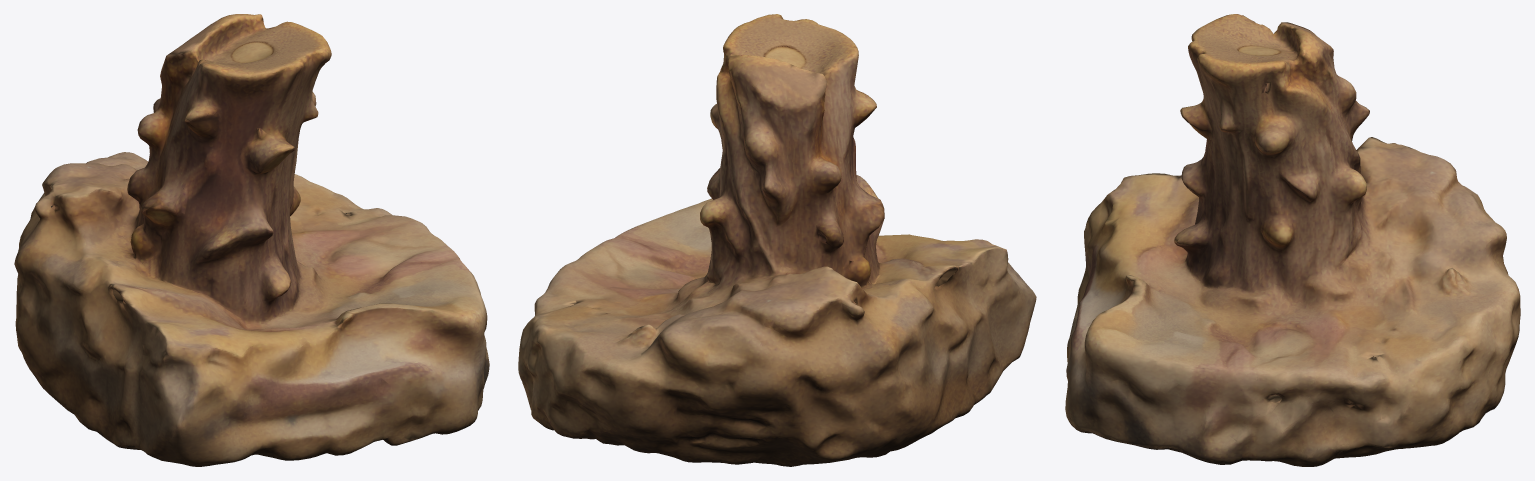
3 renders of one model, left to right at view 1: azimuth 30°, elevation 25°; view 2: azimuth 150°, elevation 25°; view 3: azimuth 270°, elevation 25°, orthographic. The views are drawn at different scales.
Visible parts, largest first — view 1: world; view 2: world; view 3: world.
Boxes of the visible parts, bbox=[...] form: world: bbox=[14, 14, 489, 466]; world: bbox=[518, 14, 1036, 466]; world: bbox=[1065, 14, 1520, 466].
Bounding box in the file's own units: 0.3274 × 0.3 × 0.345.
1 material, 1 textured.
